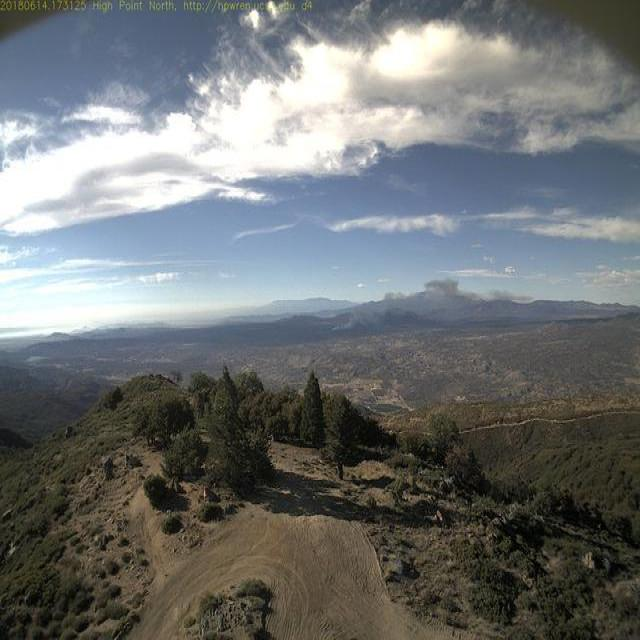smoke: (328, 272, 529, 335)
